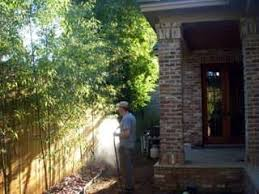bamboo: (4, 2, 56, 190), (61, 2, 95, 160), (100, 5, 145, 98)
